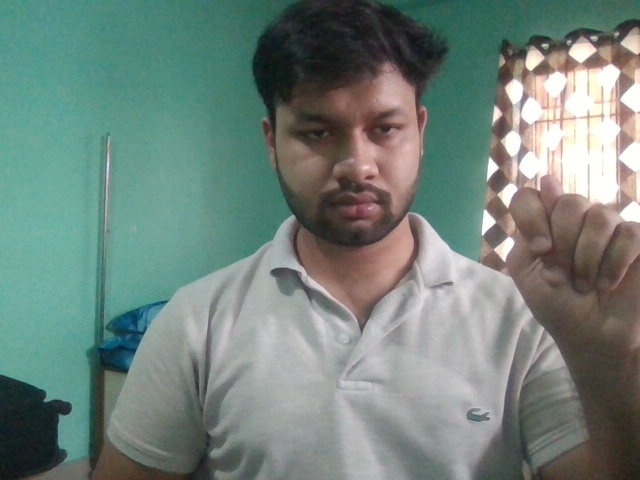Bathroom: (504, 174, 640, 365)
